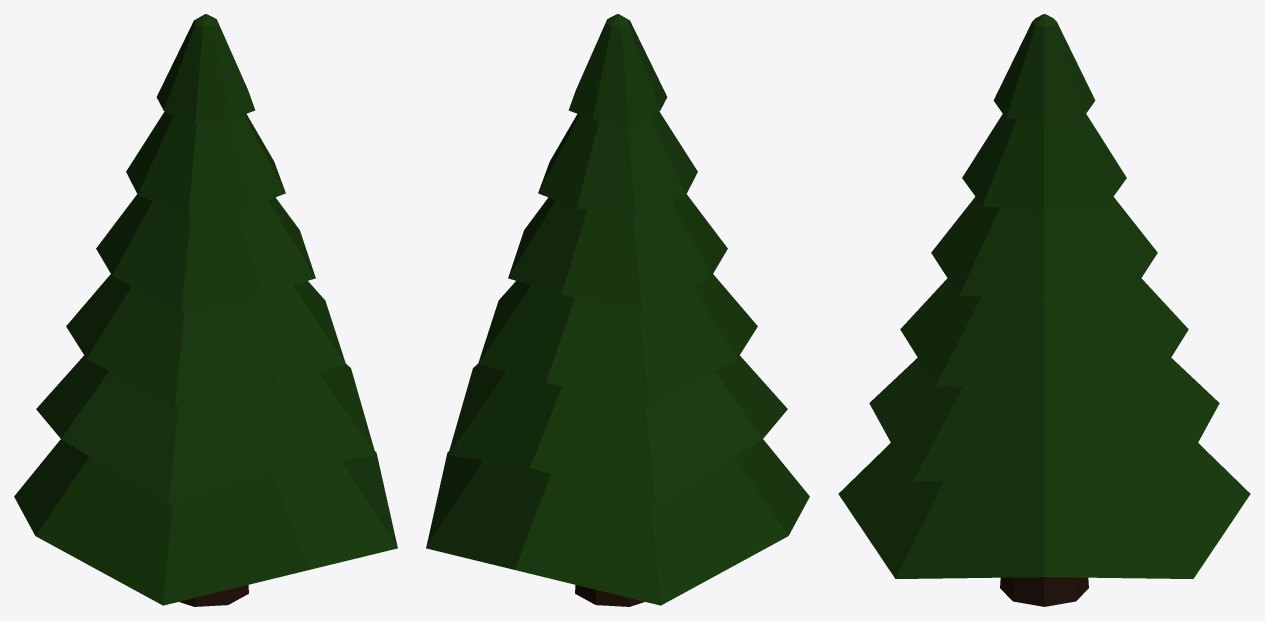
The model's file is arbol_1_2.obj.
3 renders of one model, left to right at view 1: azimuth 30°, elevation 25°; view 2: azimuth 150°, elevation 25°; view 3: azimuth 270°, elevation 25°, orthographic.
Parts seen in each view (by area): view 1: Object002; view 2: Object002; view 3: Object002.
Part boxes in pixels (x1,y1,x2,y2): Object002: (14,14,397,606); Object002: (426,14,809,606); Object002: (838,14,1250,606).
Bounding box in the file's own units: 4.75 × 7.63 × 4.97.
